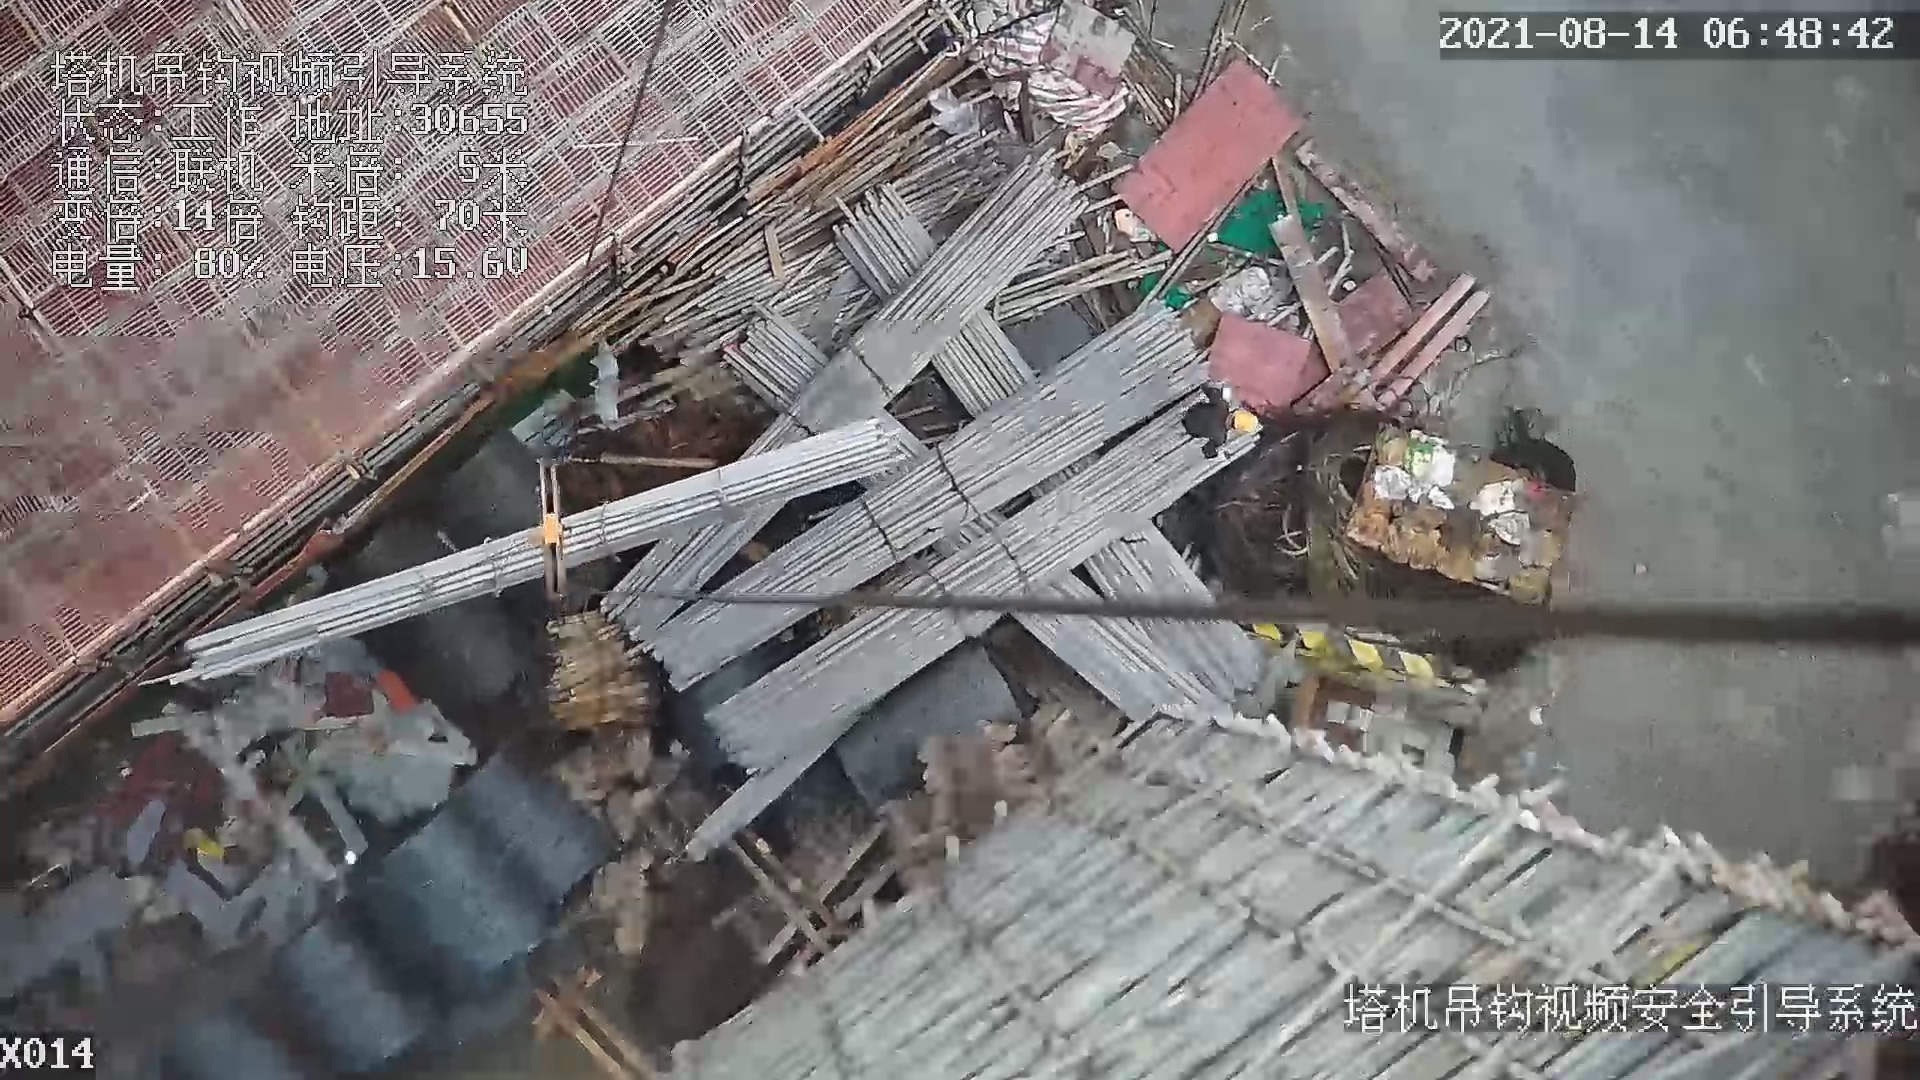board: (1119, 58, 1296, 260)
helmet: (1234, 405, 1269, 431)
hook: (526, 453, 574, 604)
person: (1177, 385, 1263, 467)
